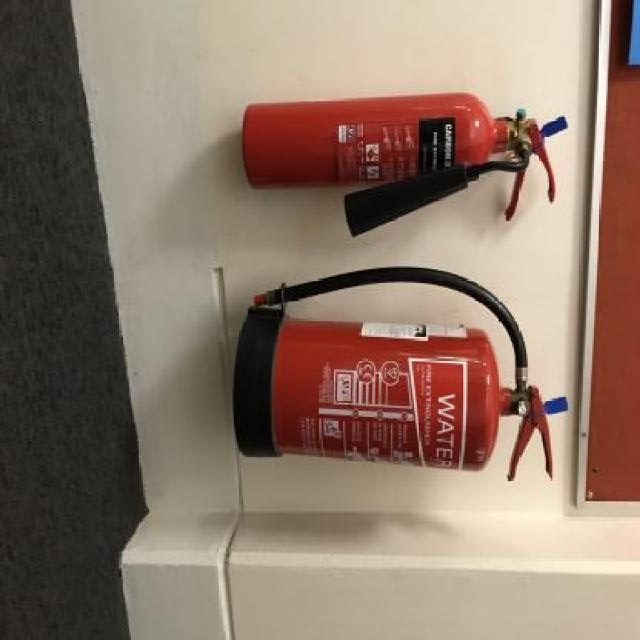fire extinguisher: (231, 266, 554, 482), (242, 92, 556, 239)
